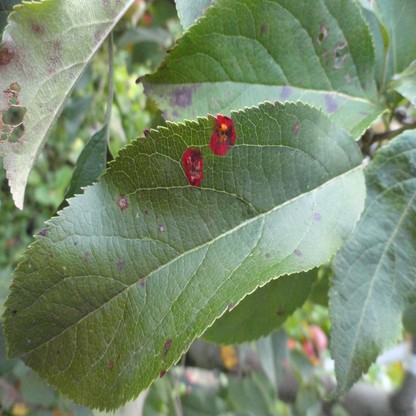rust: (211, 116, 237, 156), (181, 148, 203, 186), (118, 194, 126, 209), (292, 123, 300, 135), (108, 360, 113, 369)
